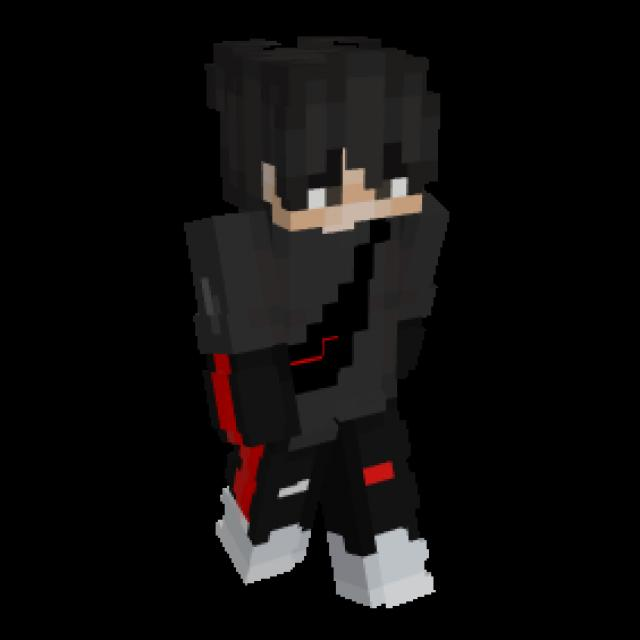Player: (182, 32, 449, 607)
